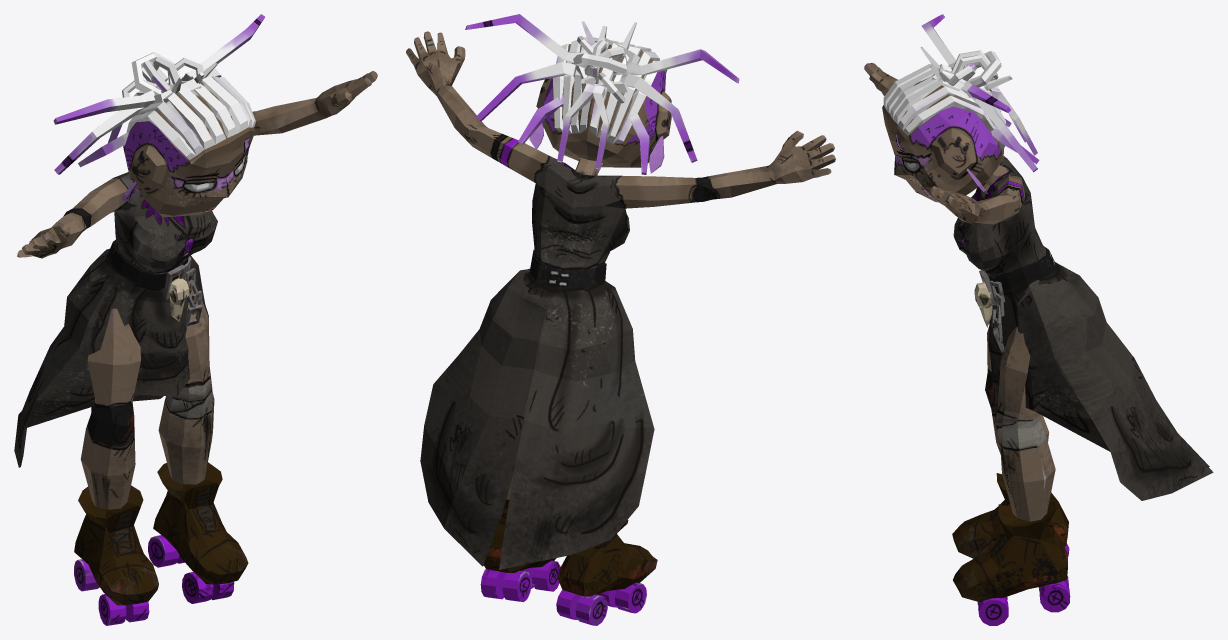
Rendered from bruja_000127.obj.
3 renders of one model, left to right at view 1: azimuth 30°, elevation 25°; view 2: azimuth 150°, elevation 25°; view 3: azimuth 270°, elevation 25°, orthographic. The views are drawn at different scales.
Parts seen in each view (by area): view 1: Bruja_Plane.001; view 2: Bruja_Plane.001; view 3: Bruja_Plane.001.
Boxes of the visible parts, <box> form: Bruja_Plane.001: <box>14,14,377,625</box>; Bruja_Plane.001: <box>406,14,835,625</box>; Bruja_Plane.001: <box>864,14,1213,625</box>.
Size of the model in its own units: 11.68 by 16.21 by 9.4.
